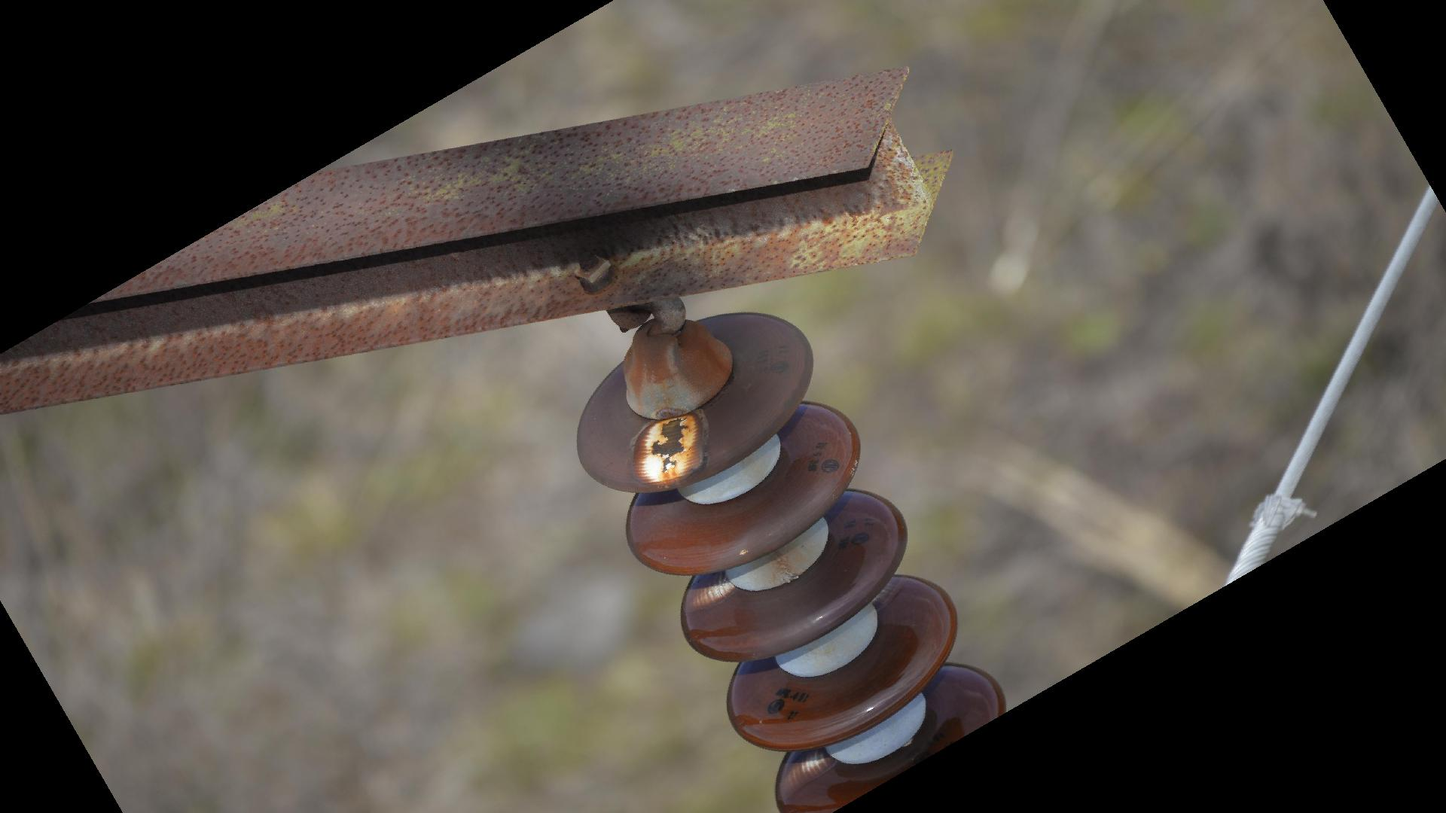insulator: (572, 305, 1014, 813)
insulator_flashover: (627, 405, 712, 491), (770, 743, 831, 800), (676, 566, 734, 617)
